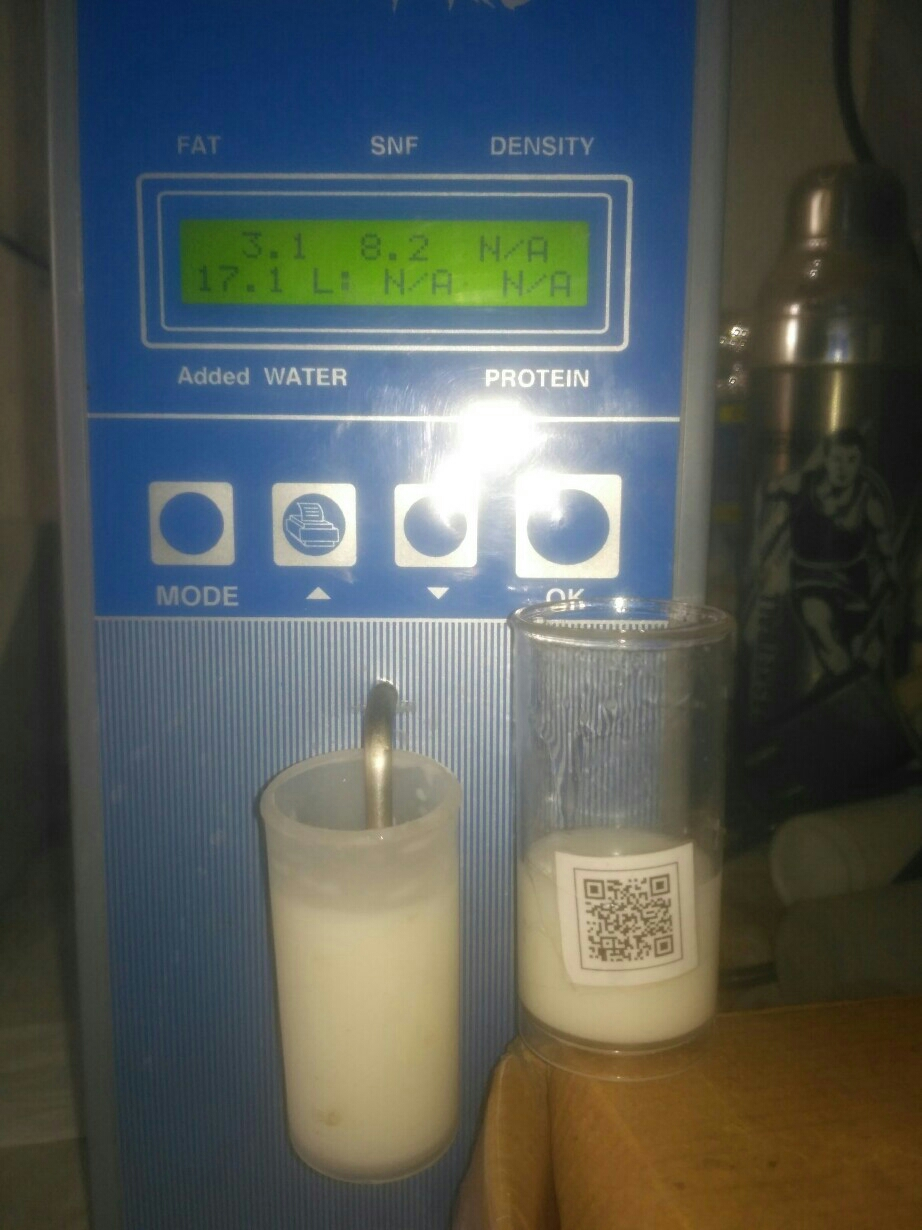lcd: (171, 213, 594, 318)
qr: (568, 860, 698, 973)
